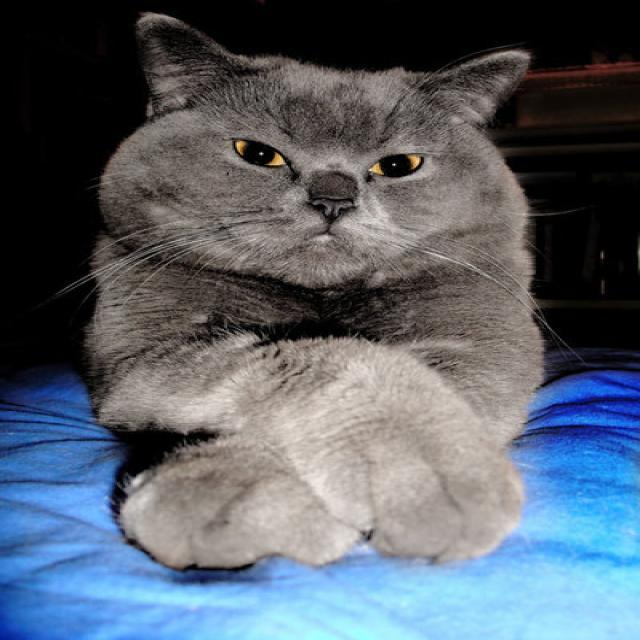British_Shorthair: (75, 2, 556, 297)
